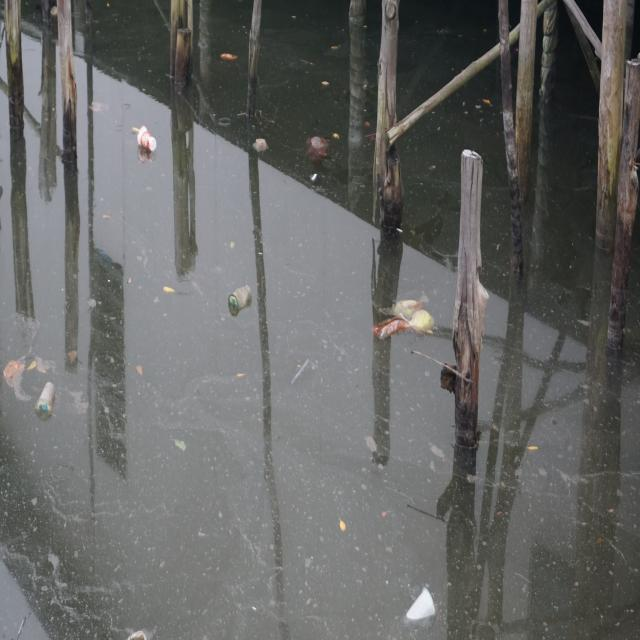Bungkus Makanan: (373, 291, 441, 358)
Bungkus Minuman: (402, 582, 443, 635), (127, 121, 162, 163), (226, 281, 256, 319), (38, 379, 59, 419)
Kantong Plastik: (303, 127, 334, 165)
